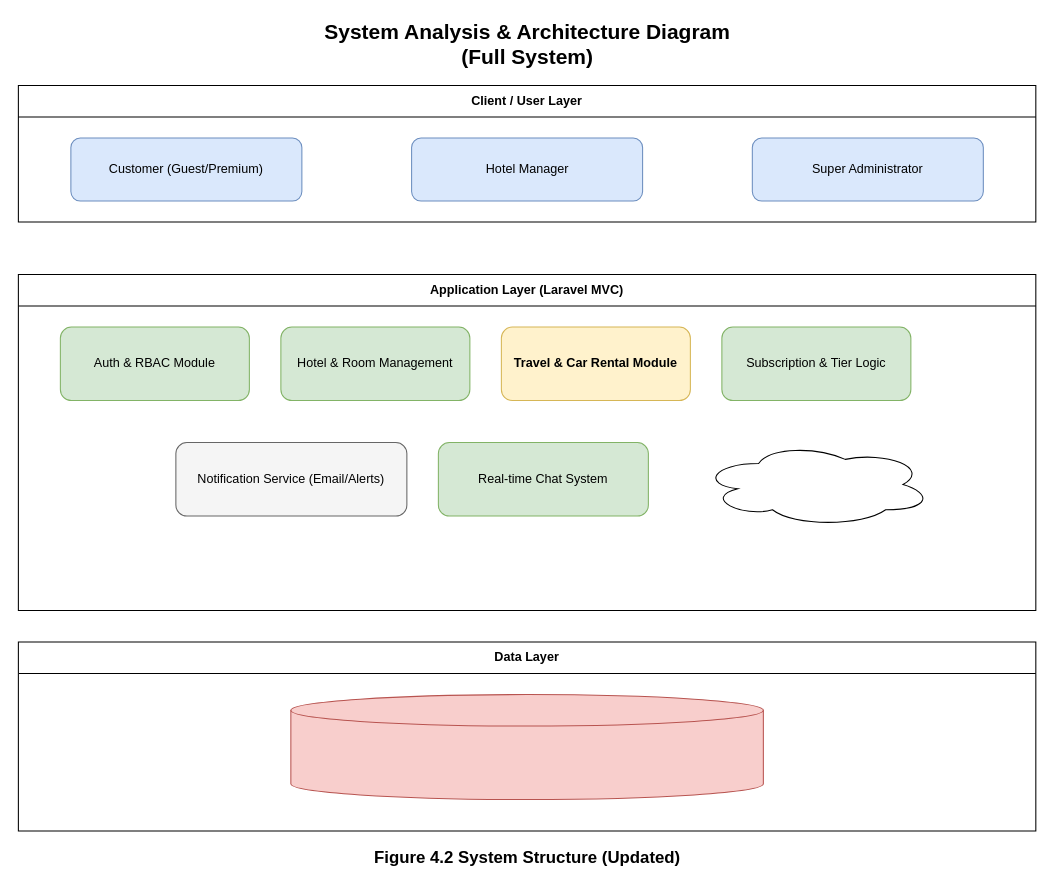
Image size: 1054x890. Some labels were removed from this diagram. The shapes that lost their labels are listed below. From the top down, each one's centre as x and y in pixels, then its label:
At [816,484]: "Payment Gateway (Stripe/SSL)".
At [526,747]: "MySQL Database (Hotels, Rooms, Bookings, Packages, Cars, Users)".
